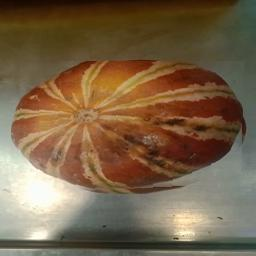Melon Semirotten: (12, 61, 245, 195)
